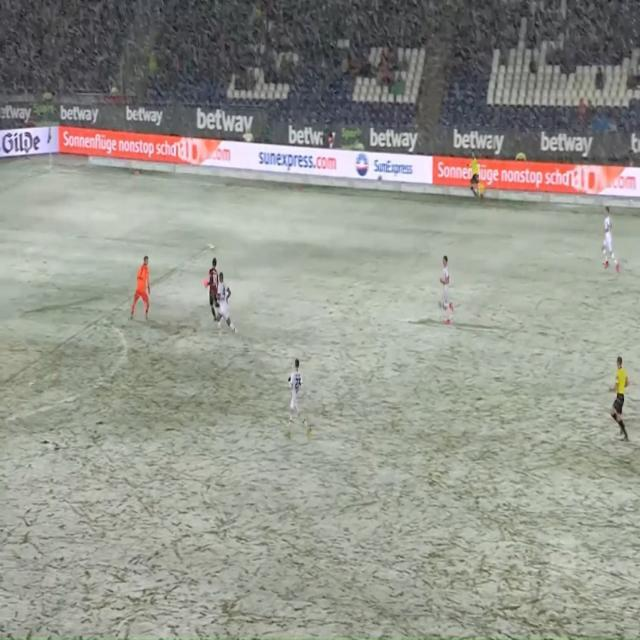ball: (201, 276, 210, 289)
goalkeeper: (129, 247, 152, 322)
player: (284, 347, 312, 445), (597, 199, 623, 279), (433, 252, 456, 323), (216, 271, 238, 336), (206, 252, 219, 324)
referee: (604, 352, 632, 446), (464, 148, 487, 206)
